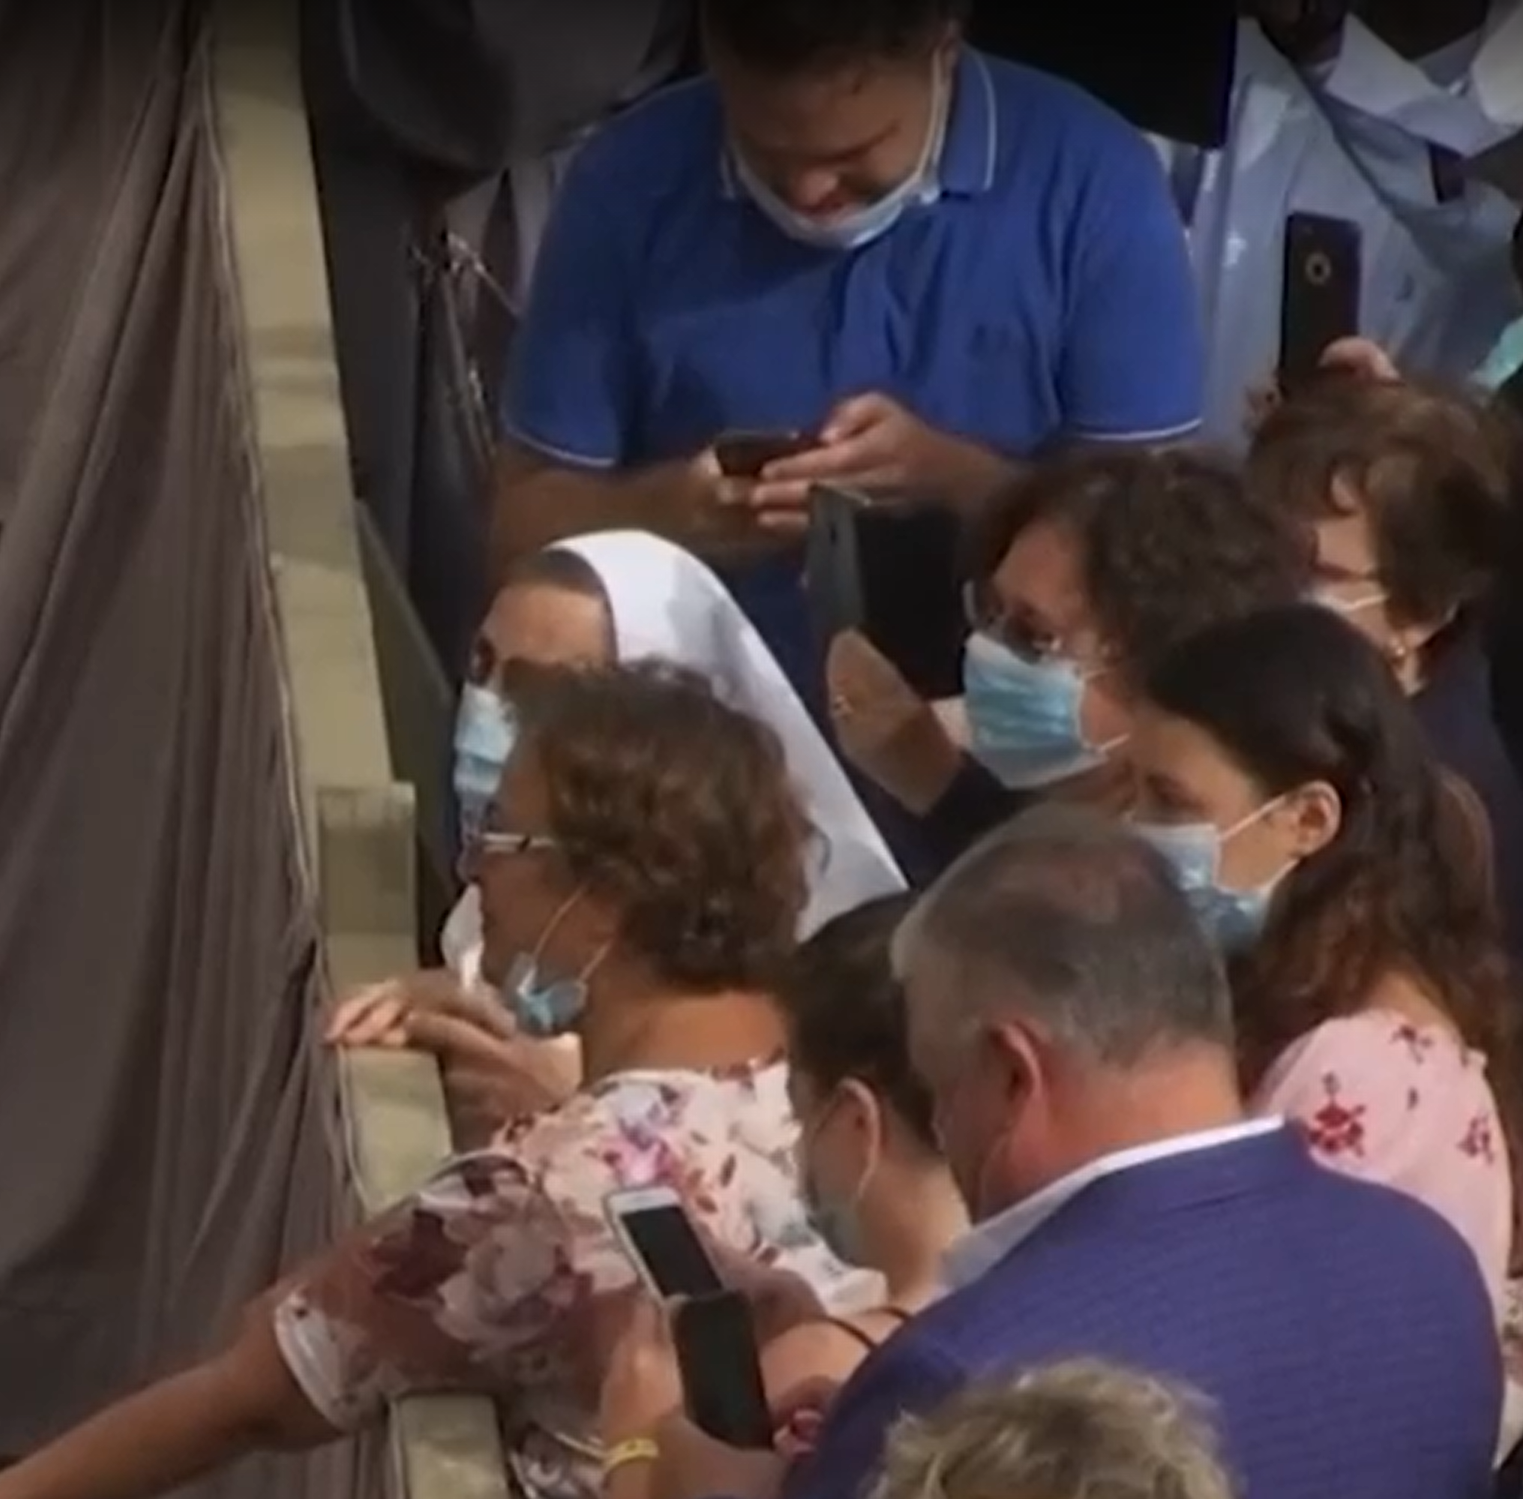mask_weared_incorrect: (442, 689, 687, 1090), (687, 1, 975, 274)
with_mask: (931, 481, 1163, 799)
